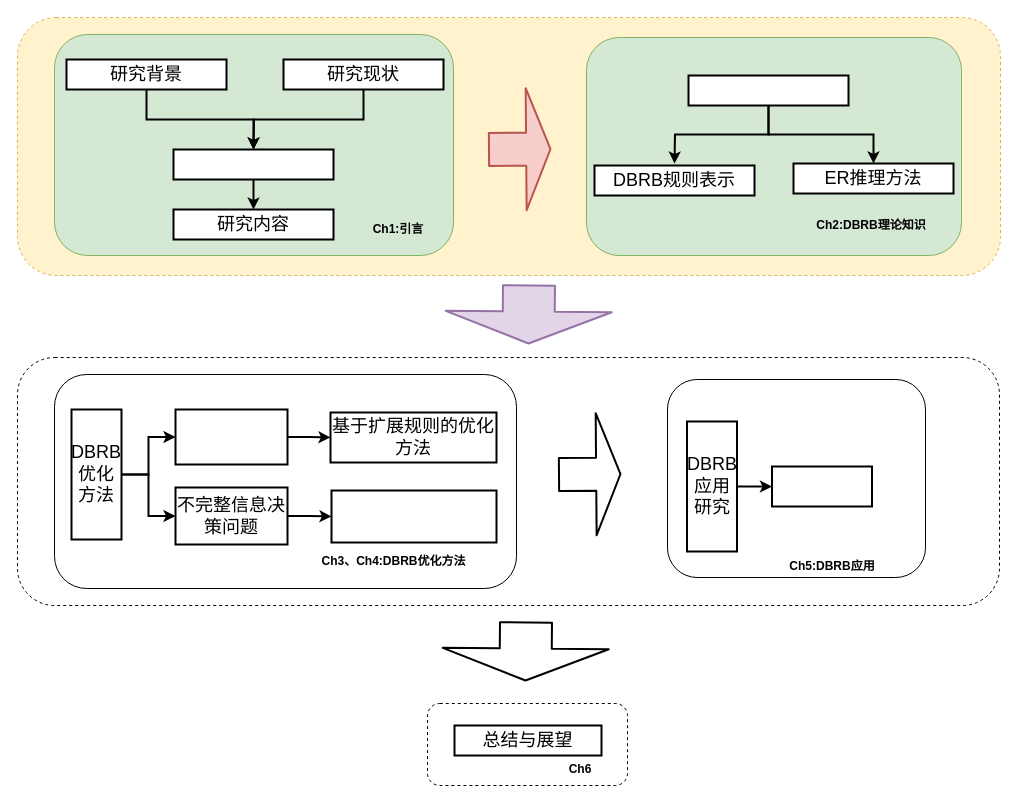
The diagram is 1018 pixels wide and 803 high, and some of its shapes have lost their labels. Each missing label, with the centre of its shape:
DBRB构建: (x=768, y=90)
不完整数据集问题: (x=231, y=436)
基于模糊关联规则的优化方法: (x=413, y=516)
存在问题: (x=253, y=164)
教师教学水平评估模型: (x=821, y=486)
